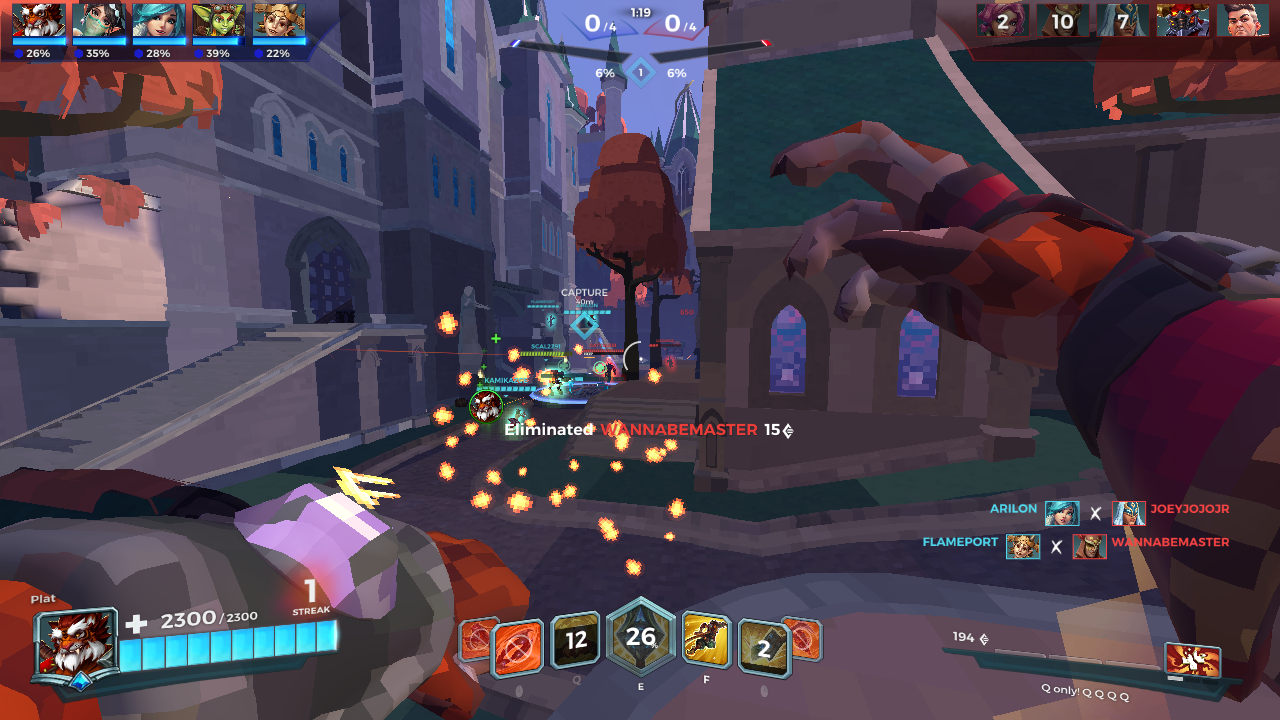model: (599, 359, 616, 380), (665, 352, 674, 371)
